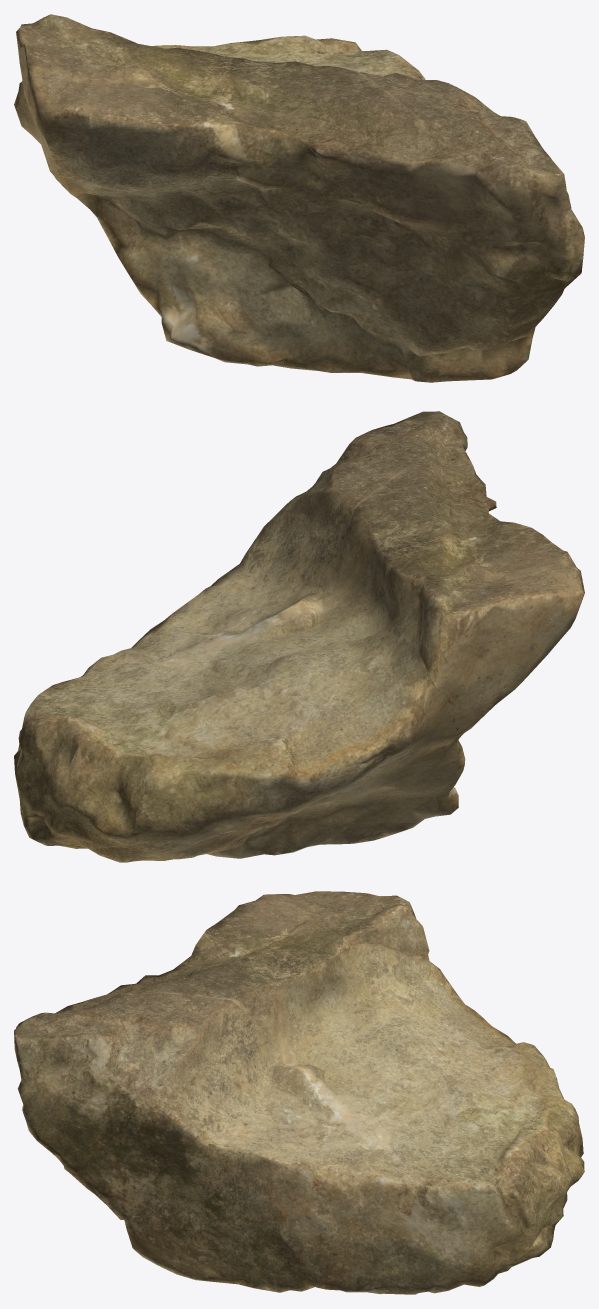
Rendered from rock_small_01.glb.
3 renders of one model, top to bottom at view 1: azimuth 30°, elevation 25°; view 2: azimuth 150°, elevation 25°; view 3: azimuth 270°, elevation 25°, orthographic. The views are drawn at different scales.
Visible parts, largest first — view 1: Rock_Small_01_LOD0; view 2: Rock_Small_01_LOD0; view 3: Rock_Small_01_LOD0.
Part boxes in pixels (x1,y1,x2,y2): Rock_Small_01_LOD0: (14, 14, 584, 382); Rock_Small_01_LOD0: (14, 411, 584, 862); Rock_Small_01_LOD0: (14, 891, 584, 1294).
Size of the model in its own units: 0.0947 by 0.0621 by 0.1243.
1 material, 1 textured.
